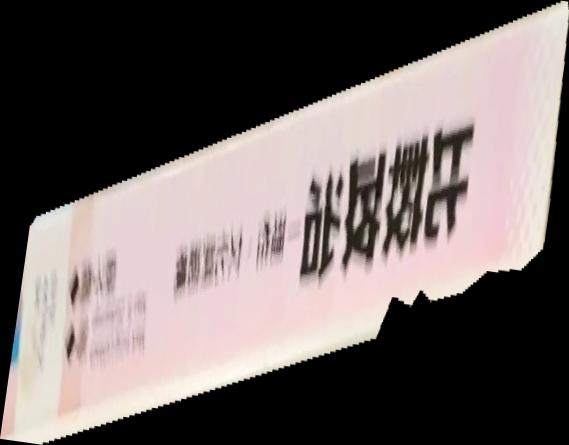flat: (1, 1, 569, 445)
